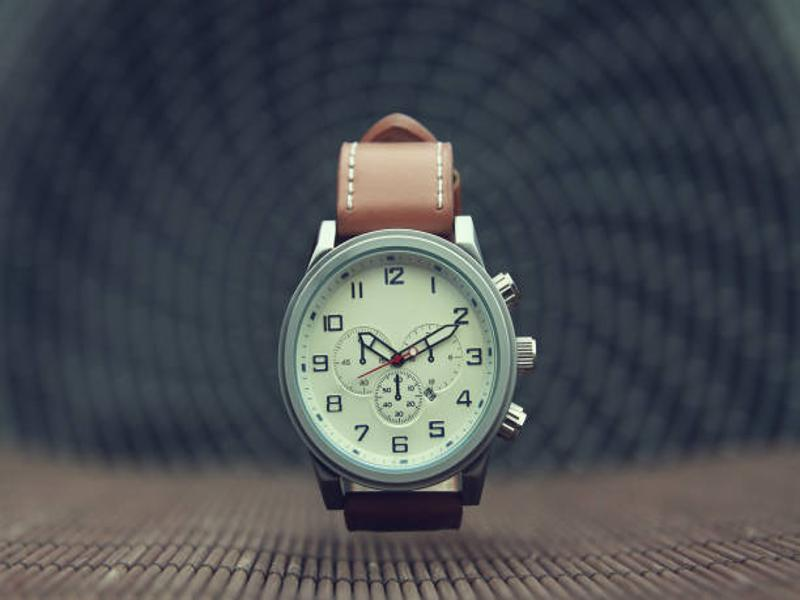watch: (279, 114, 536, 539)
